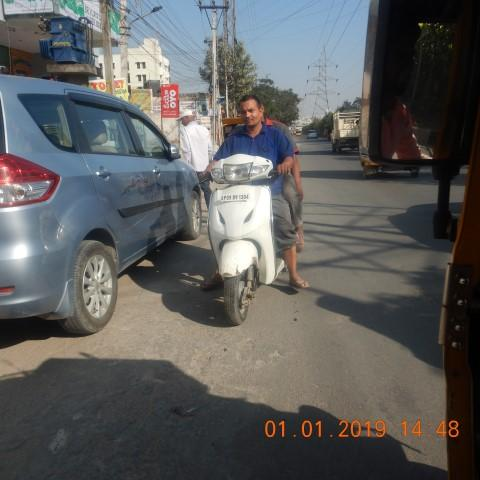plate: (220, 193, 250, 202)
